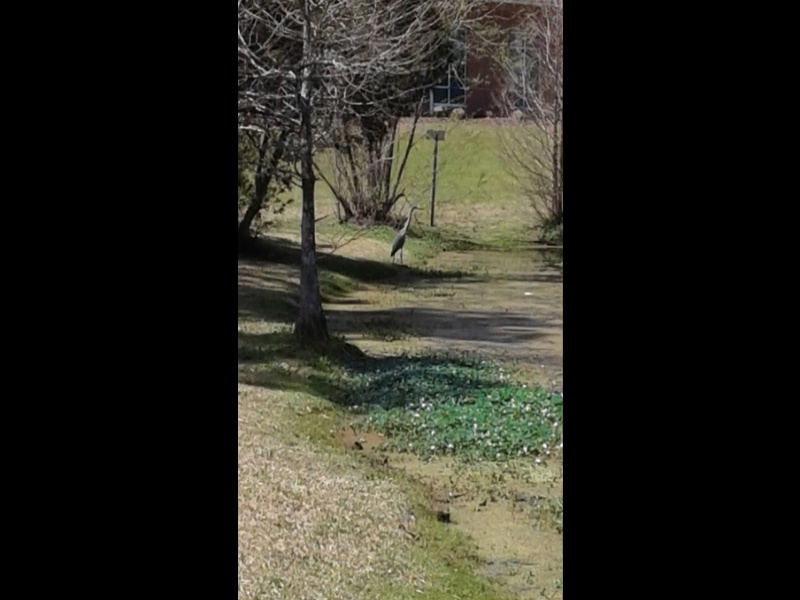heron: (387, 205, 424, 273)
